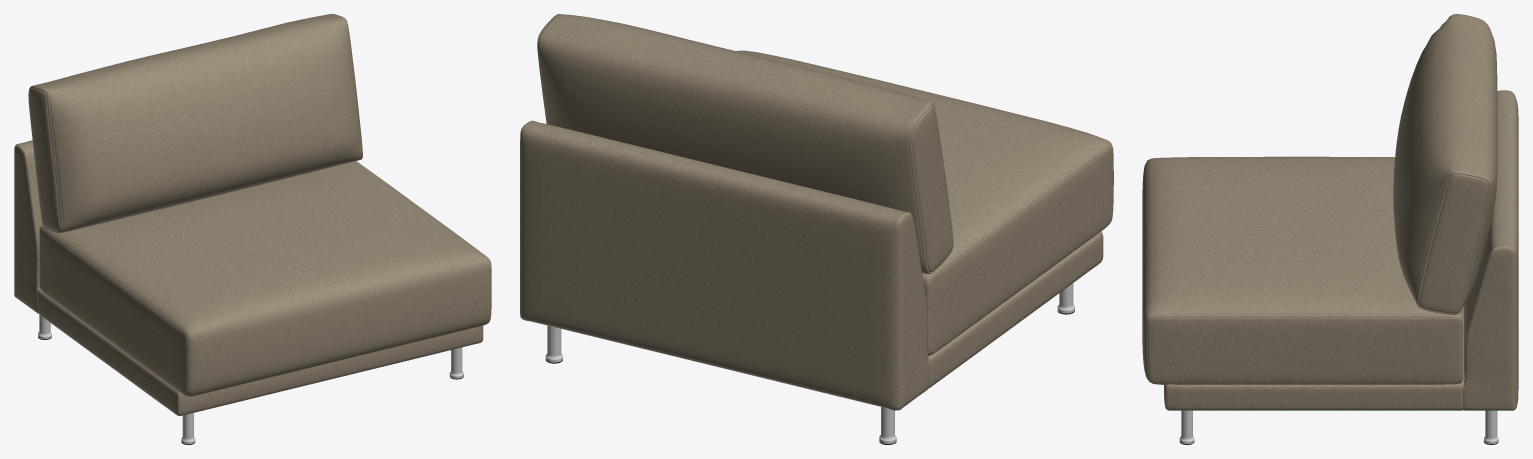
Rendered from 16 - UPPÅKRA 1.5-seat module - Johanneshov brown-beige.glb.
3 renders of one model, left to right at view 1: azimuth 30°, elevation 25°; view 2: azimuth 150°, elevation 25°; view 3: azimuth 270°, elevation 25°, orthographic. The views are drawn at different scales.
Parts seen in each view (by area): view 1: 1330, 1318; view 2: 1330, 1318; view 3: 1330, 1318.
Part boxes in pixels (left/top/right/bottom): 1330: left=14, top=14, right=491, bottom=415; 1318: left=38, top=315, right=463, bottom=444; 1330: left=520, top=14, right=1113, bottom=410; 1318: left=545, top=283, right=1074, bottom=443; 1330: left=1142, top=14, right=1518, bottom=410; 1318: left=1179, top=410, right=1498, bottom=444.
Bounding box in the file's own units: 1.1 × 0.9016 × 1.1.
3 materials, 1 textured.
